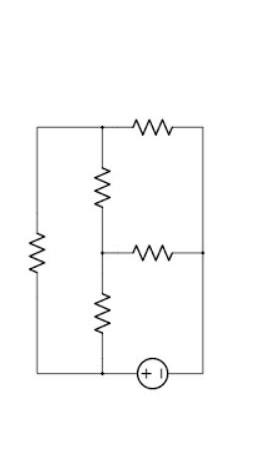resistor: (80, 158, 121, 219), (83, 282, 122, 346), (123, 105, 183, 144), (18, 216, 52, 282)
